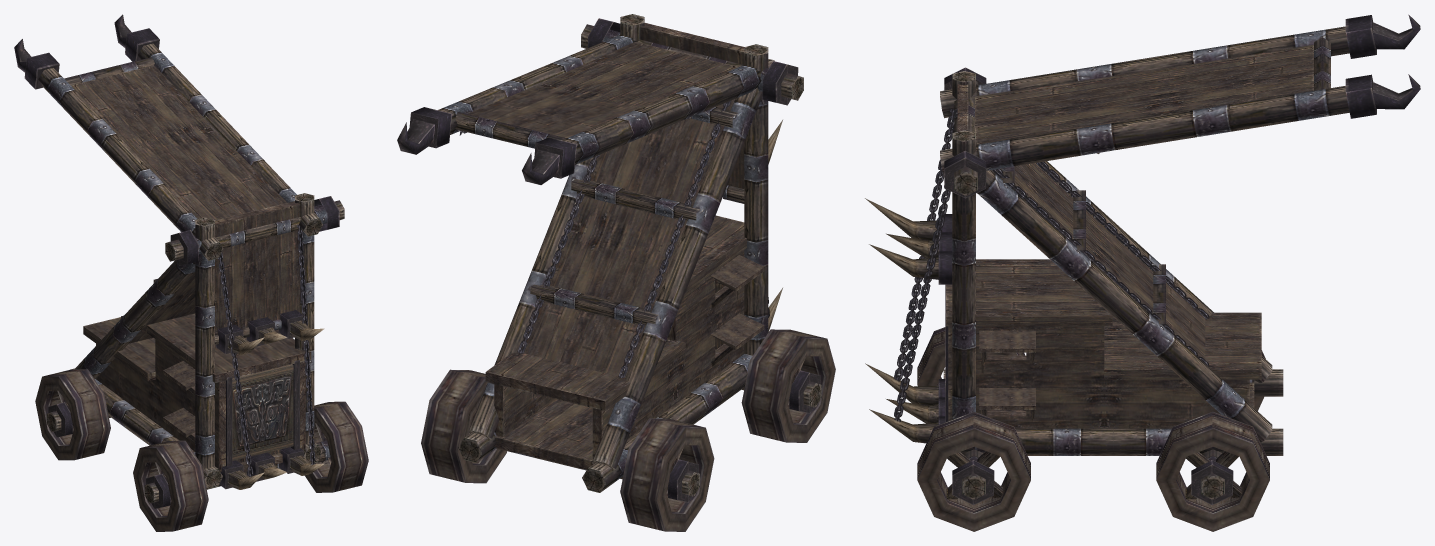
Rendered from gongchengche_zd_60.FBX.
3 views of the same model, side by side, from view 1: azimuth 30°, elevation 25°; view 2: azimuth 150°, elevation 25°; view 3: azimuth 270°, elevation 25° (orthographic). The views are drawn at different scales.
Parts seen in each view (by area): view 1: gongchengche_zd_60_ncl1_2, gongchengche_banzi_60; view 2: gongchengche_zd_60_ncl1_2, gongchengche_banzi_60; view 3: gongchengche_zd_60_ncl1_2, gongchengche_banzi_60.
Boxes of the visible parts, x1=… form: gongchengche_zd_60_ncl1_2: x1=35, y1=193, x2=368, y2=531; gongchengche_banzi_60: x1=14, y1=14, x2=322, y2=260; gongchengche_zd_60_ncl1_2: x1=421, y1=14, x2=835, y2=531; gongchengche_banzi_60: x1=397, y1=35, x2=774, y2=184; gongchengche_zd_60_ncl1_2: x1=865, y1=67, x2=1283, y2=531; gongchengche_banzi_60: x1=940, y1=14, x2=1420, y2=177.
Size of what is drawn, in the model's own units: 1235 by 2036 by 2380.
